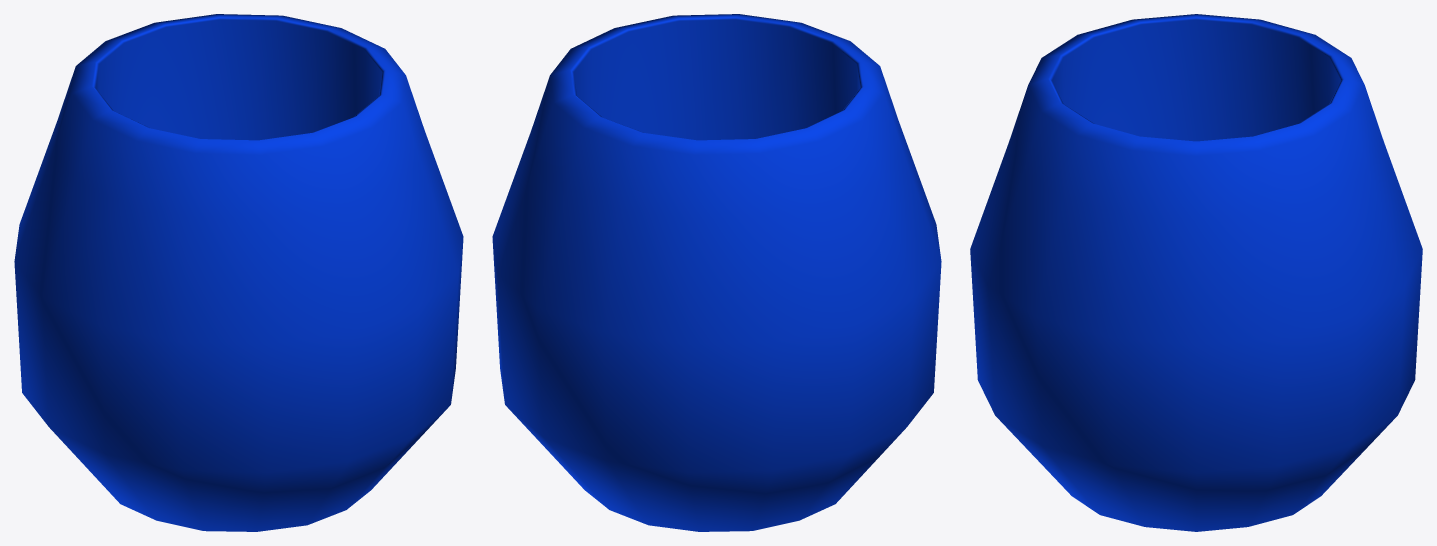
File: Jar_03.fbx
3 renders of one model, left to right at view 1: azimuth 30°, elevation 25°; view 2: azimuth 150°, elevation 25°; view 3: azimuth 270°, elevation 25°, orthographic.
Parts seen in each view (by area): view 1: Jar_03; view 2: Jar_03; view 3: Jar_03.
Part boxes in pixels (x1,y1,x2,y2): Jar_03: [14, 14, 463, 531]; Jar_03: [492, 14, 941, 531]; Jar_03: [970, 14, 1422, 531].
Bounding box in the file's own units: 25.32 × 24.41 × 25.32.
